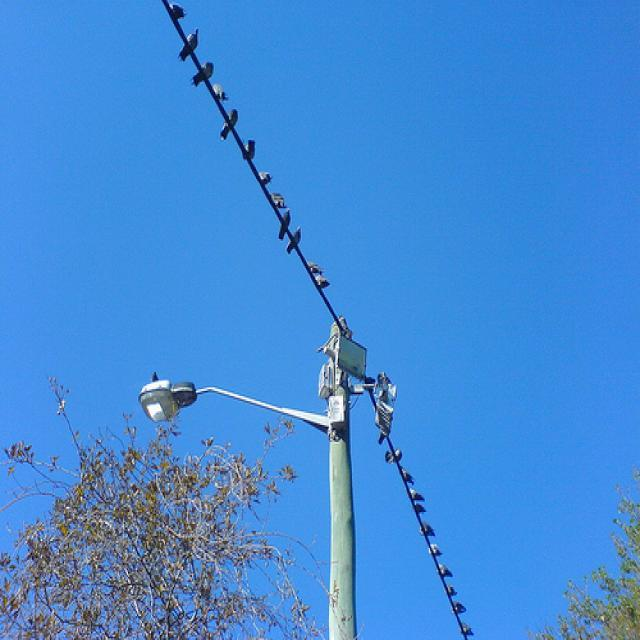pole: (328, 432, 357, 640)
transformer: (321, 327, 370, 425)
wire: (160, 0, 351, 336), (365, 380, 469, 640)
